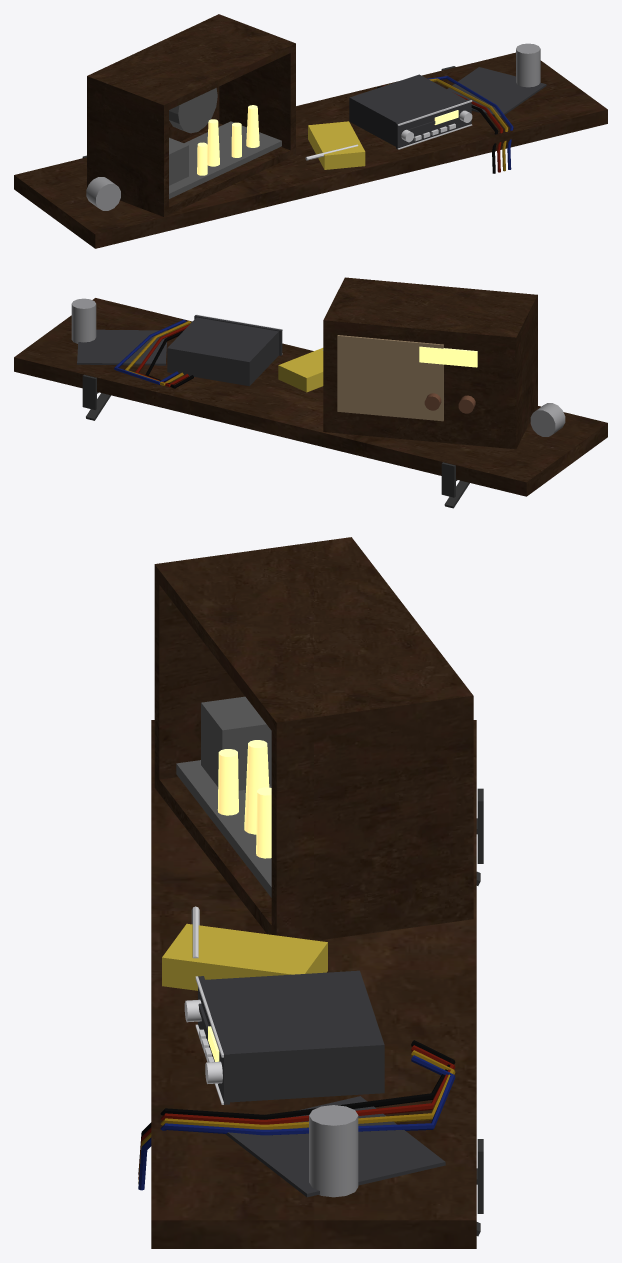
File: repair-shelf.glb
The picture shows the model from 3 angles, top to bottom: view 1: azimuth 30°, elevation 25°; view 2: azimuth 150°, elevation 25°; view 3: azimuth 270°, elevation 25°; orthographic projection. The views are drawn at different scales.
Parts seen in each view (by area): view 1: repairshelf; view 2: repairshelf; view 3: repairshelf.
Part boxes in pixels (<box>): repairshelf: <box>14,14,607,248</box>; repairshelf: <box>14,277,607,508</box>; repairshelf: <box>138,537,483,1248</box>.
Bounding box in the file's own units: 1.2 × 0.3474 × 0.3502.
4 materials, 1 textured.
